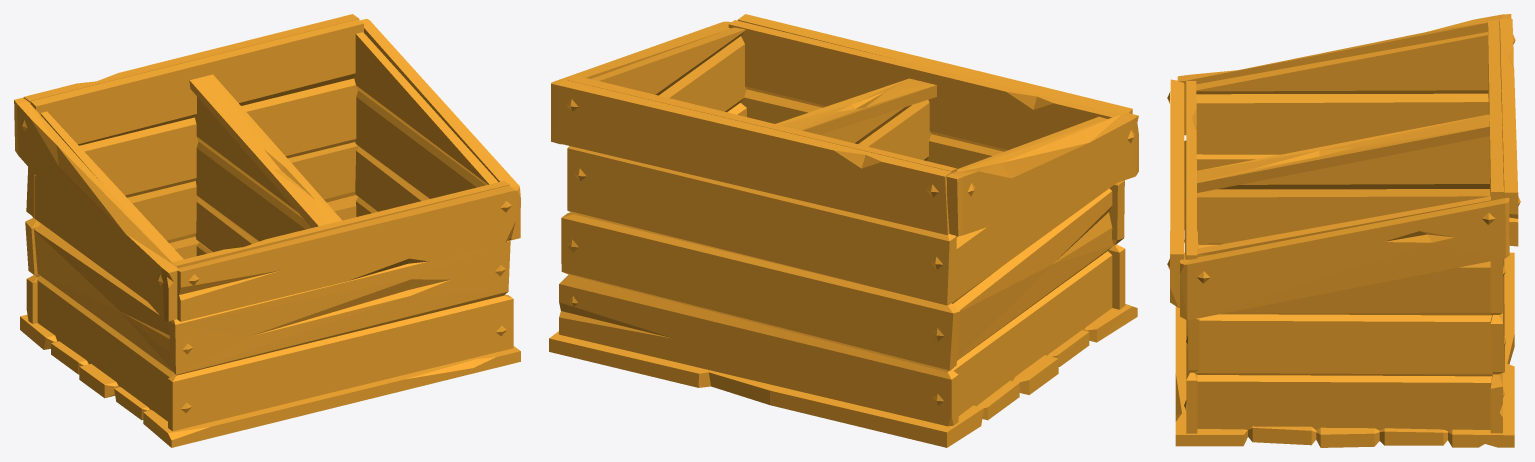
Rendered from SM_Crate_Slanted_Empty_Fantasy.fbx.
3 renders of one model, left to right at view 1: azimuth 30°, elevation 25°; view 2: azimuth 150°, elevation 25°; view 3: azimuth 270°, elevation 25°, orthographic. The views are drawn at different scales.
Parts seen in each view (by area): view 1: crate-slanted-empty-fantasy; view 2: crate-slanted-empty-fantasy; view 3: crate-slanted-empty-fantasy.
Boxes of the visible parts, <box> form: crate-slanted-empty-fantasy: <box>14,14,520,447</box>; crate-slanted-empty-fantasy: <box>549,14,1138,447</box>; crate-slanted-empty-fantasy: <box>1167,14,1520,447</box>.
Bounding box in the file's own units: 1.06 × 0.6641 × 0.8418.
